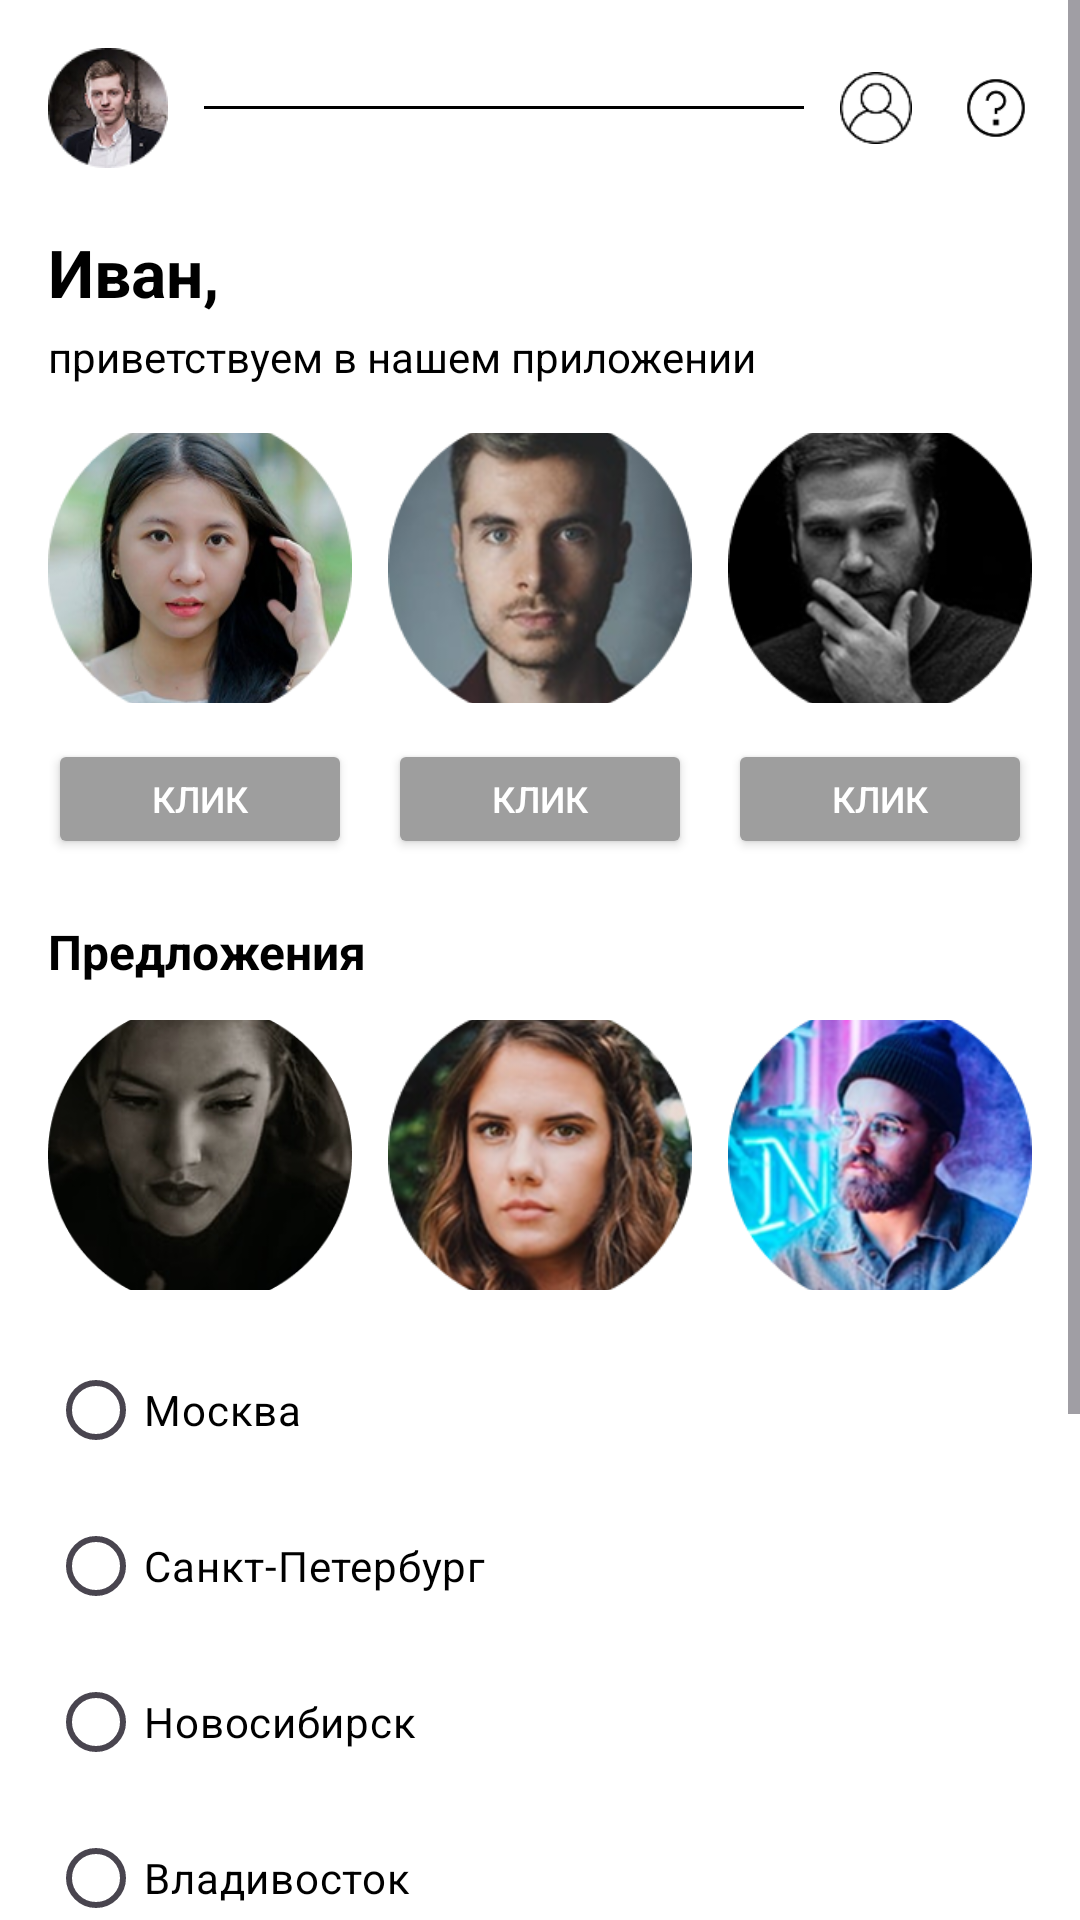

Where to tap for icons on this 1080*1920 app screen, as [x,y]:
Help icon: [996,108]
User avatar: [108,108]
User icon: [876,108]
